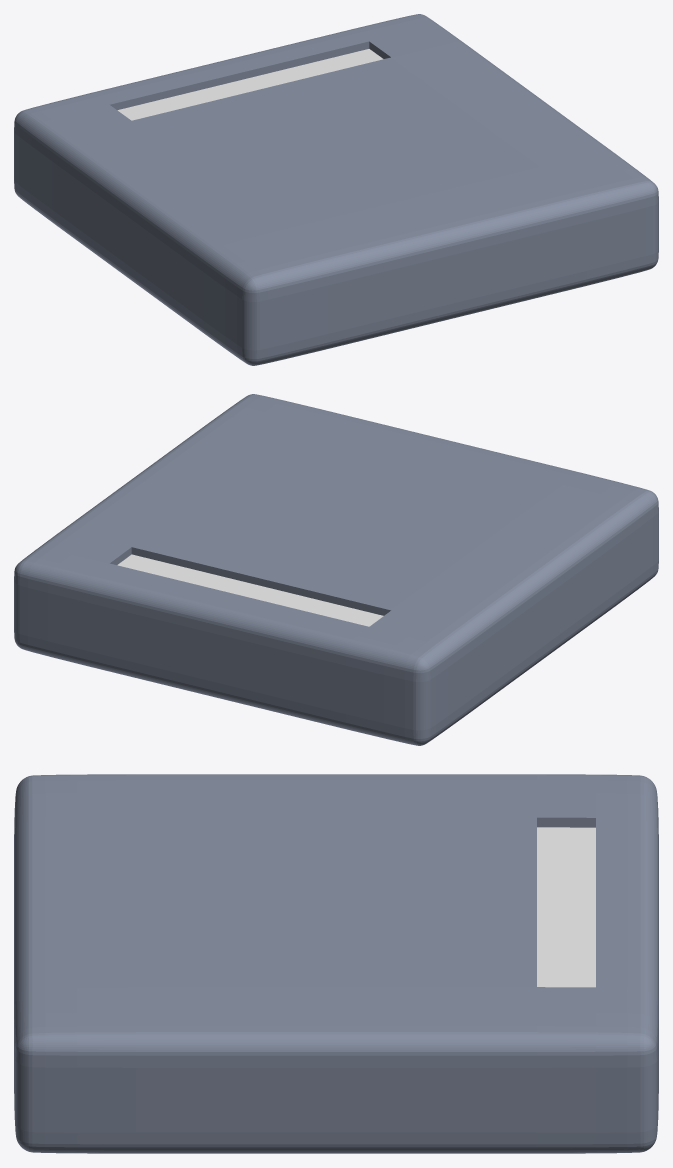
3 renders of one model, top to bottom at view 1: azimuth 30°, elevation 25°; view 2: azimuth 150°, elevation 25°; view 3: azimuth 270°, elevation 25°, orthographic. The views are drawn at different scales.
Visible parts, largest first — view 1: base-line; view 2: base-line; view 3: base-line.
Part boxes in pixels (x1,y1,x2,y2): base-line: [14, 14, 658, 365]; base-line: [14, 394, 658, 745]; base-line: [14, 774, 658, 1153].
Size of the model in its own units: 199 by 41.99 by 199.
